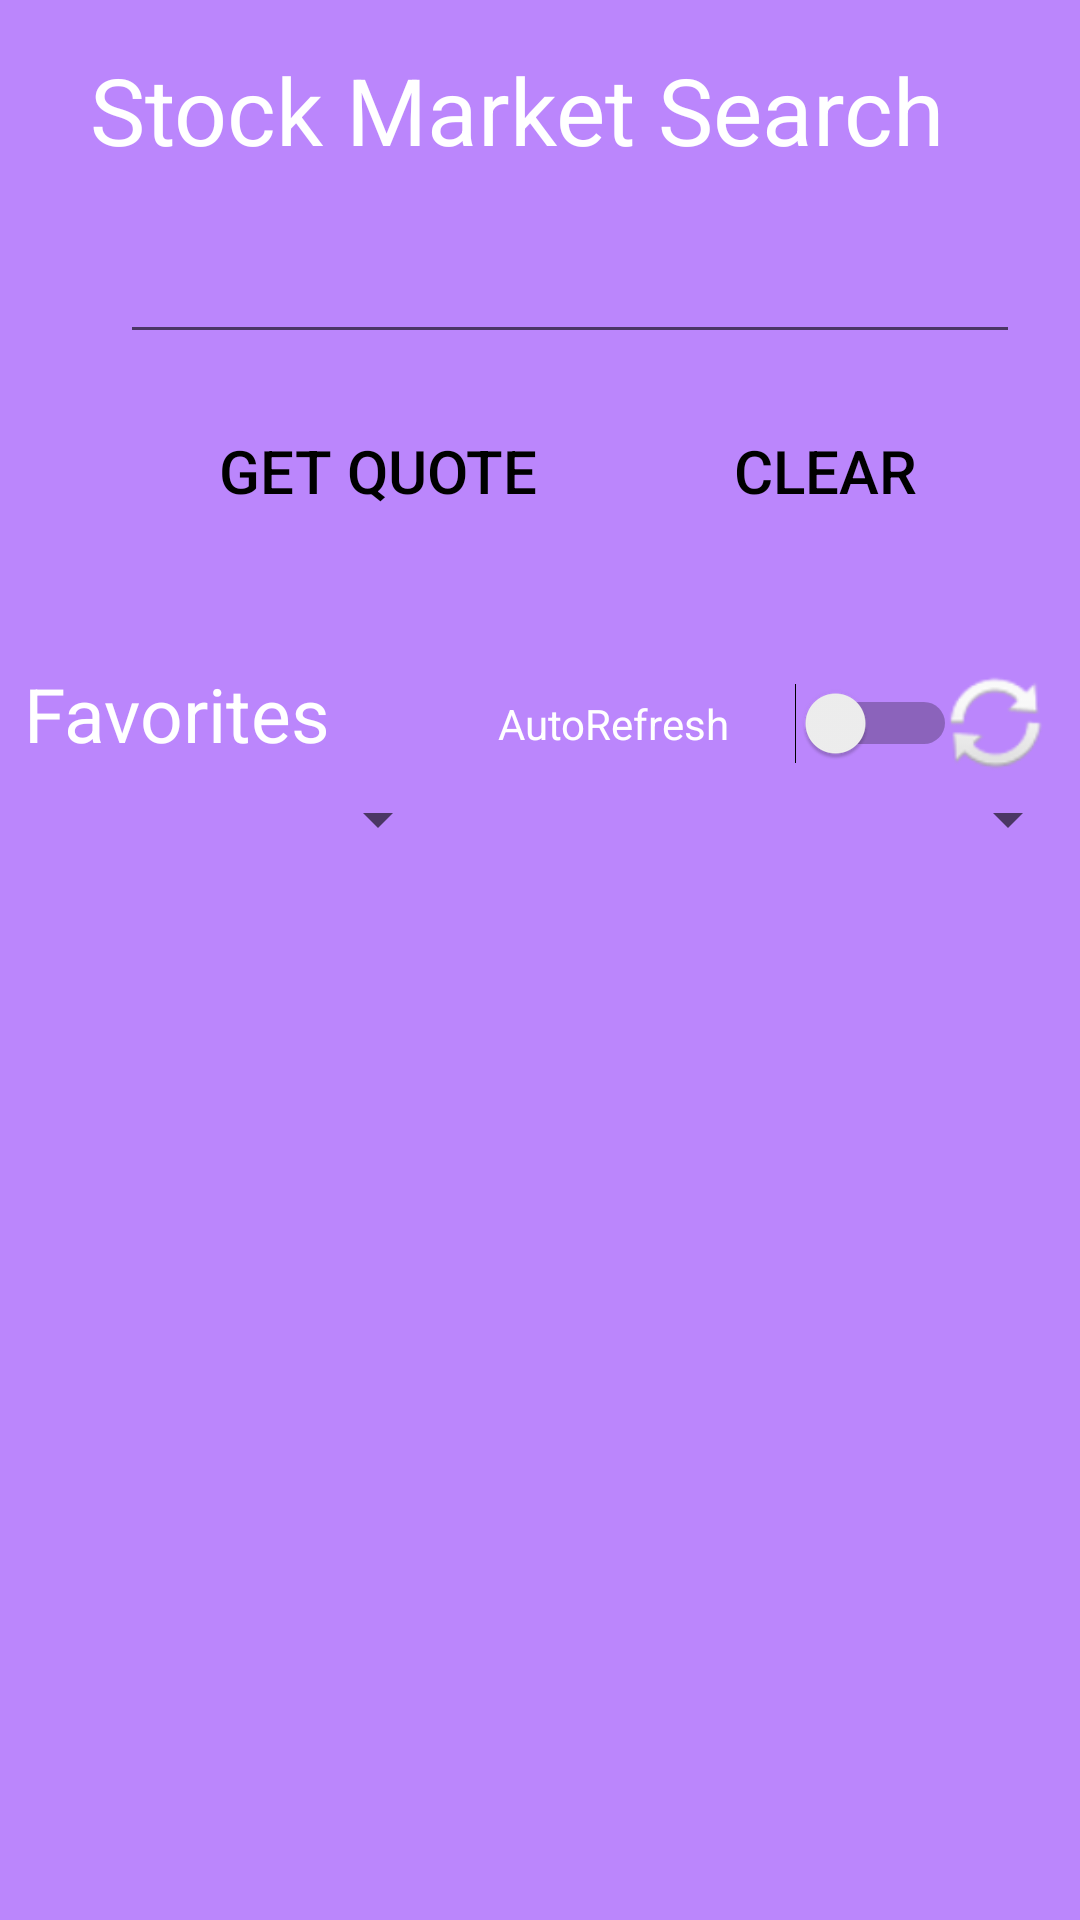

Icon bounding boxes for this 1080px×1920px phone screenshot, format (x1, y1, x2, y2):
popup sync: (950, 678, 1041, 767)
